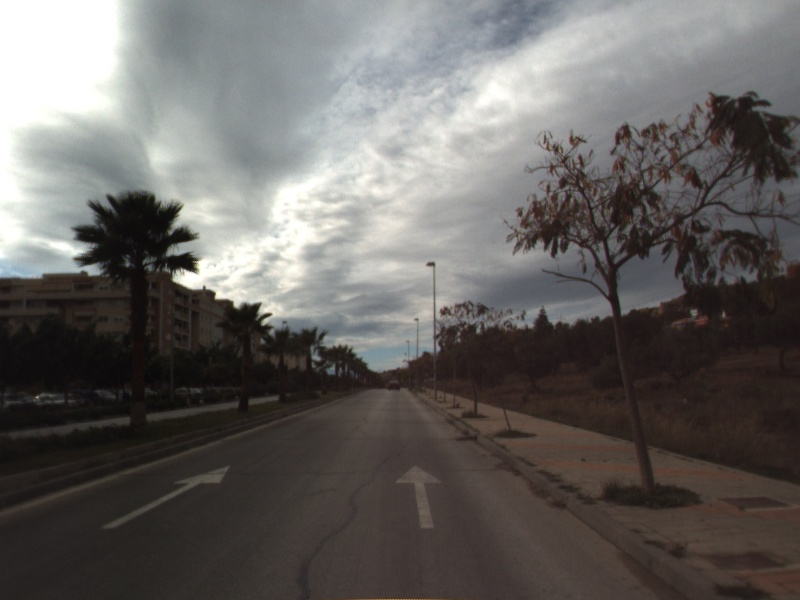STRAIGHT: (99, 463, 233, 531), (393, 462, 445, 531)
